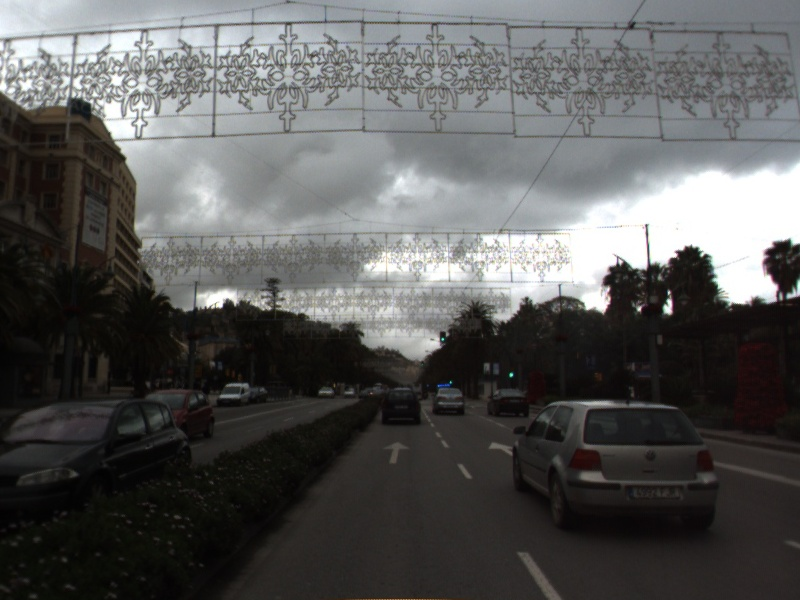STRAIGHT: (381, 439, 411, 465), (487, 439, 515, 456)
